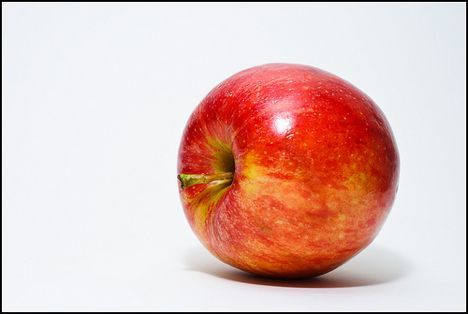apple: (180, 63, 400, 278)
